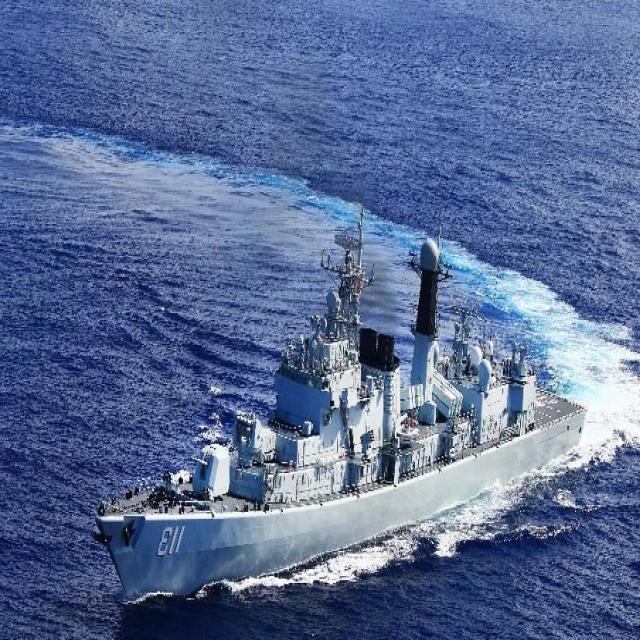navalvessels: (102, 209, 600, 624)
